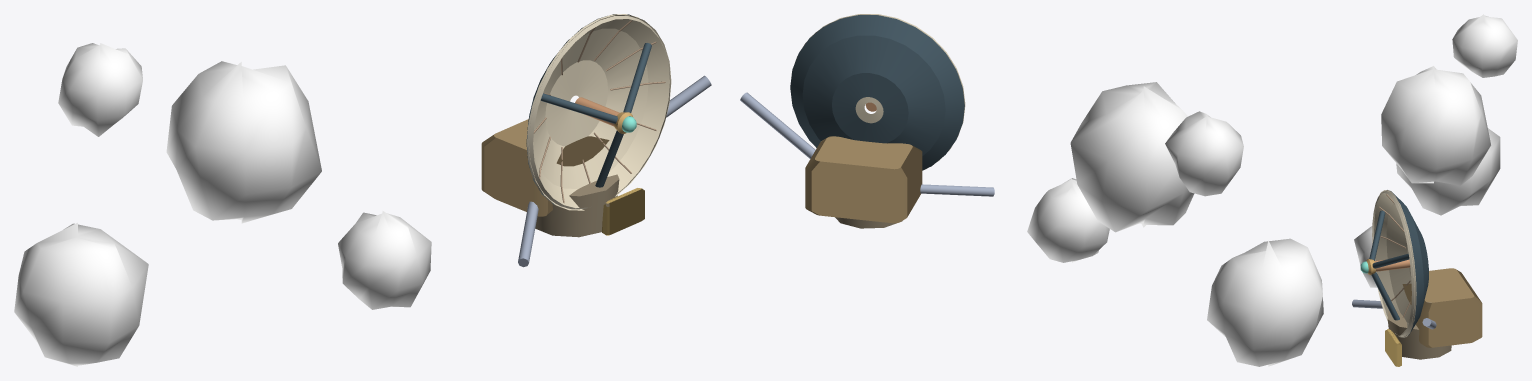
The model's file is pioneer-asteroides.obj.
3 renders of one model, left to right at view 1: azimuth 30°, elevation 25°; view 2: azimuth 150°, elevation 25°; view 3: azimuth 270°, elevation 25°, orthographic. The views are drawn at different scales.
Visible parts, largest first — view 1: pioneer-asteroides; view 2: pioneer-asteroides; view 3: pioneer-asteroides.
Part boxes in pixels (left/top/right/bottom): pioneer-asteroides: left=14, top=14, right=711, bottom=366; pioneer-asteroides: left=740, top=14, right=1323, bottom=366; pioneer-asteroides: left=1352, top=14, right=1517, bottom=366.
Bounding box in the file's own units: 1.46 × 0.608 × 0.4271.
